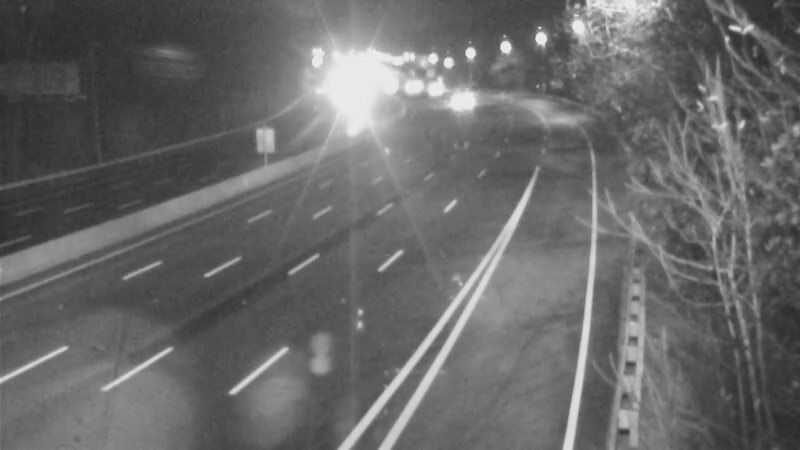vehicle: (410, 62, 460, 112), (436, 75, 486, 125)
